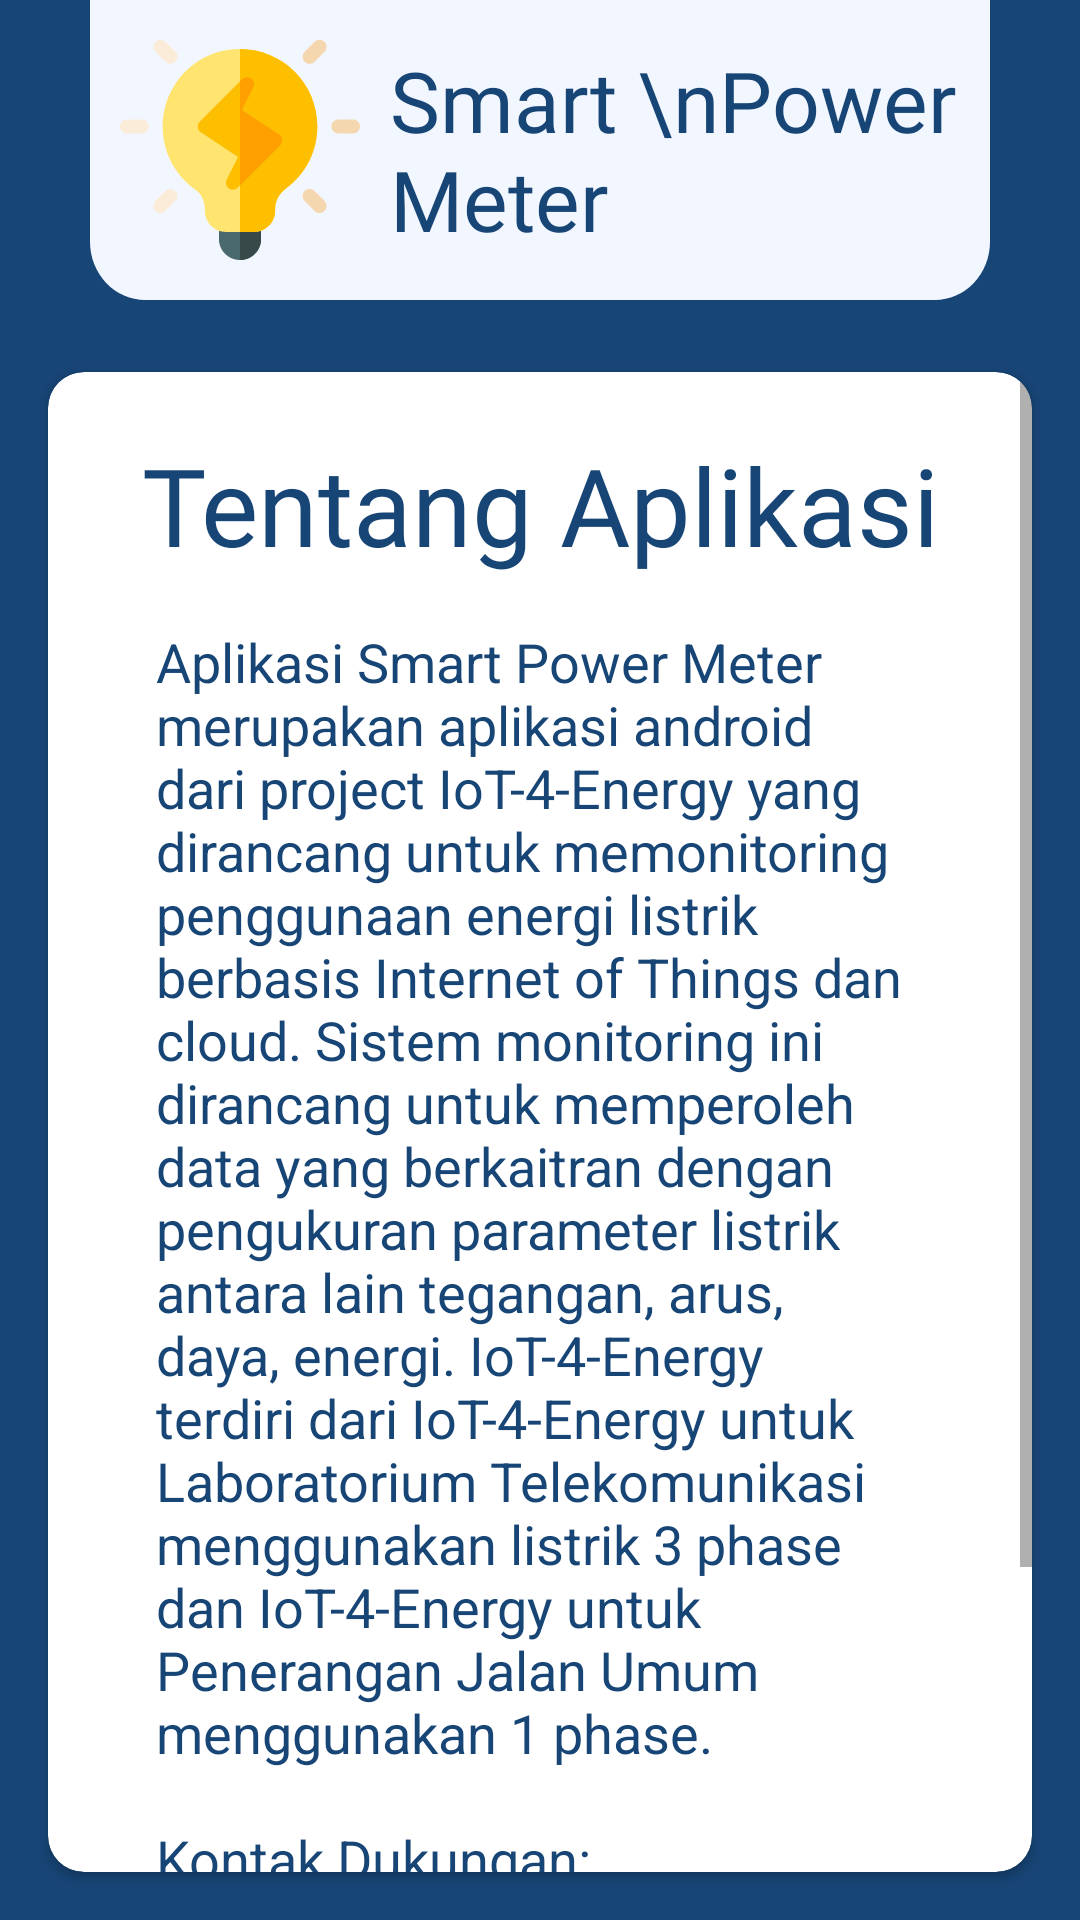

Where icons sit on this 1080px×1920px app screen, as [x1=x1, y1=y1, x2=x2, y2=y2]:
idea: [x1=120, y1=40, x2=360, y2=260]
